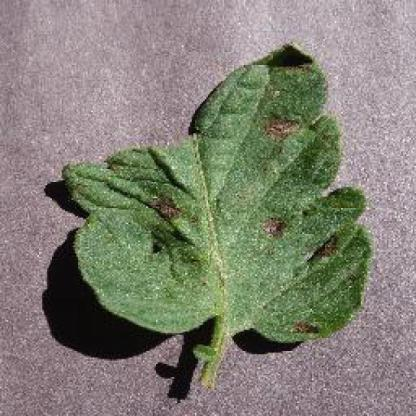Tomato_Blight: (63, 44, 368, 345)
